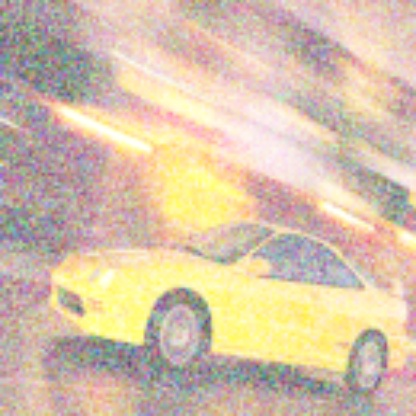Vehicle: (48, 218, 411, 397)
